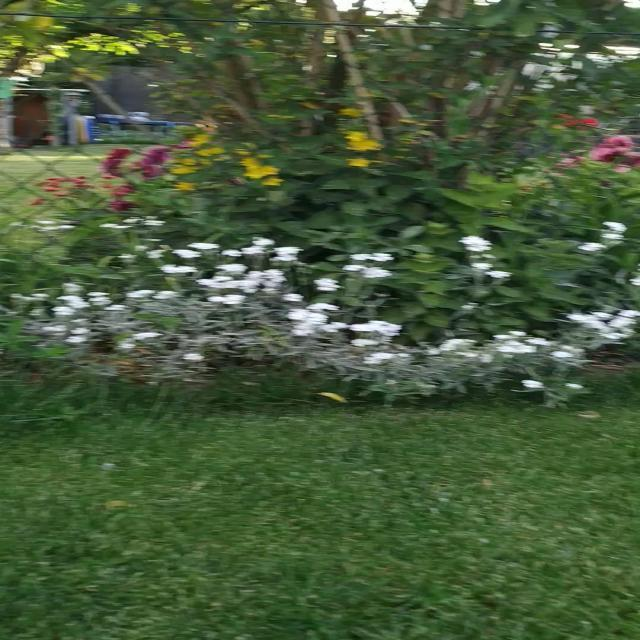lawn: (0, 382, 640, 640)
